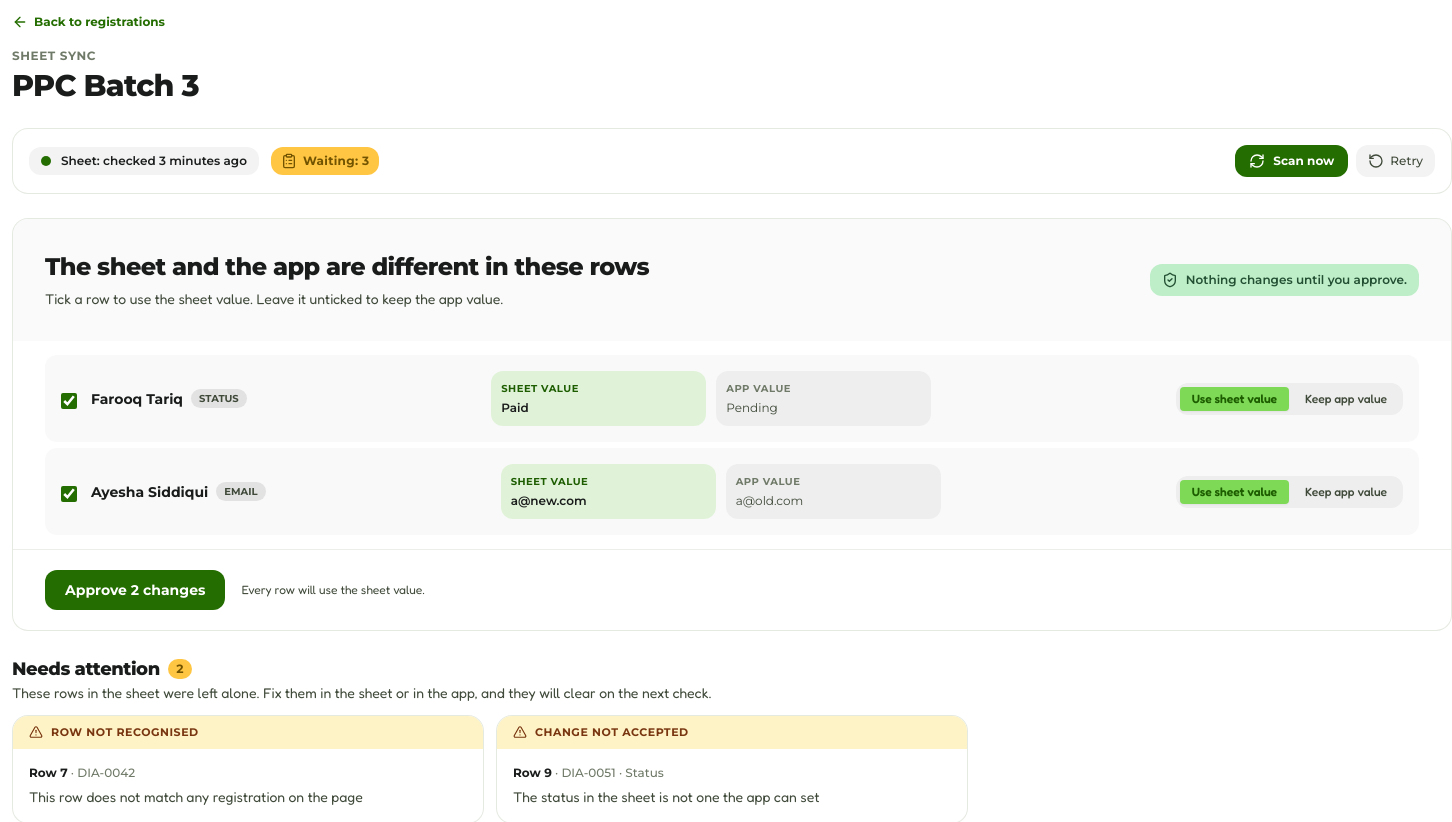
SheetSyncPanel › shows the plain error text when approving fails
The width and height of the screenshot is (1452, 822).
Click the button "Approve 2 changes".
click(135, 590)  # box [45,570,225,610]
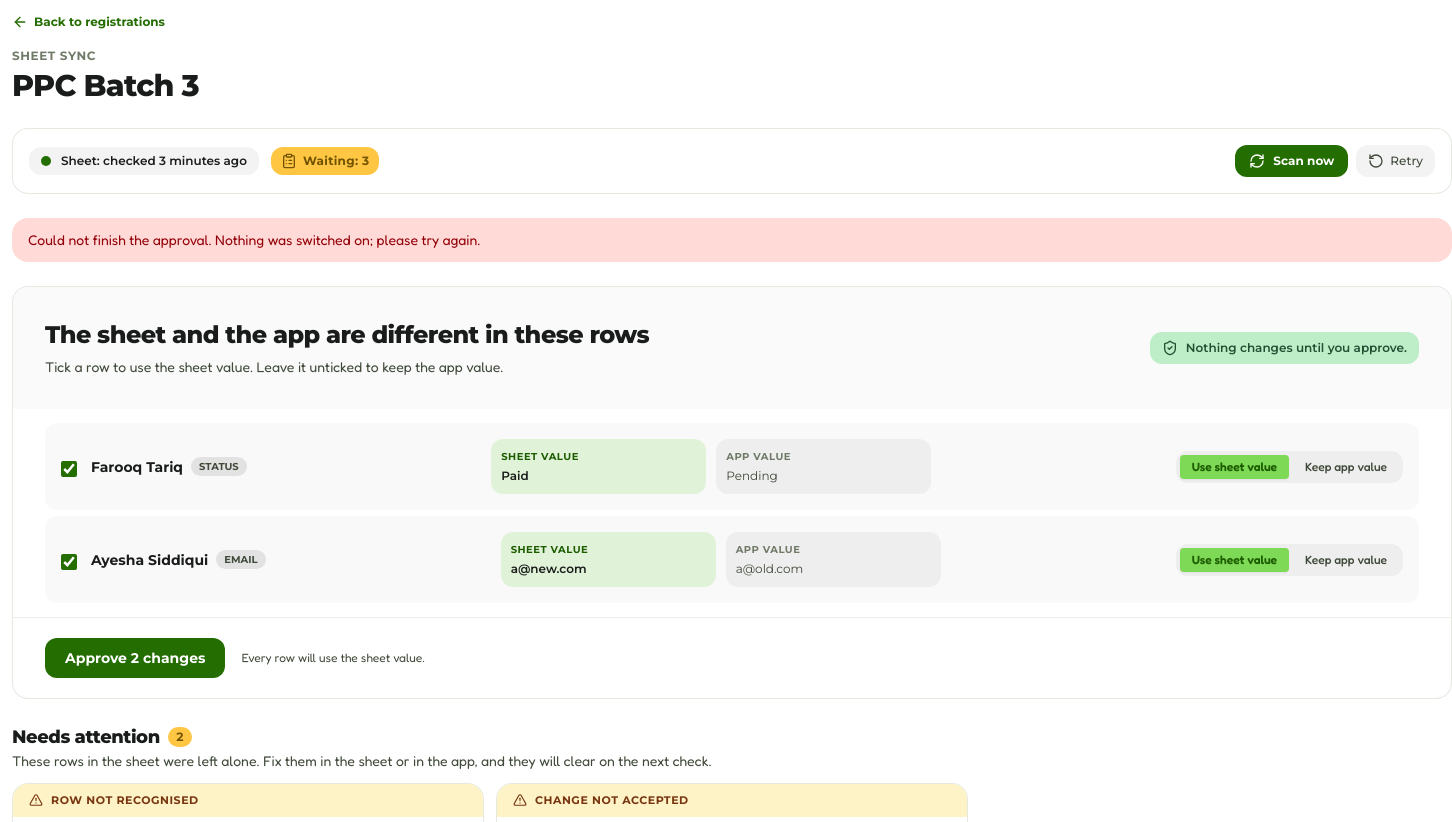
Expected: the button "Approve 2 changes" is enabled, [45,638,225,678]
Result: the text "Could not finish the approval. Nothing was switched on; please try again." is shown at [12,218,1451,262]
